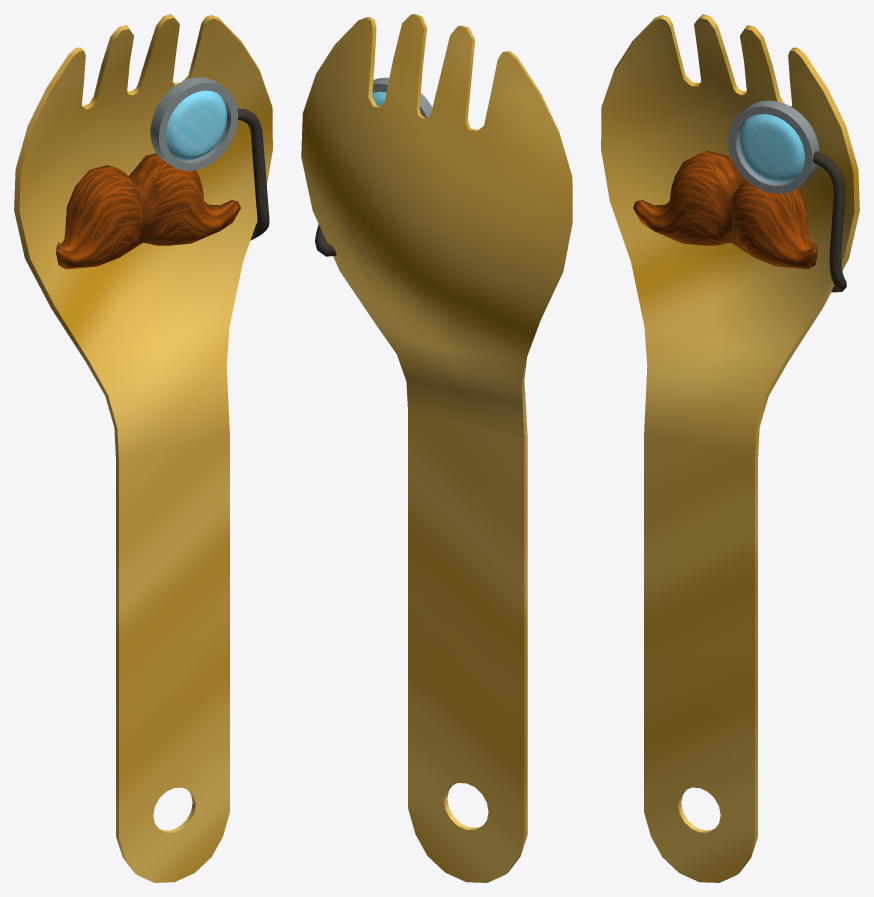
The model's file is sporkMoustache.glb.
3 renders of one model, left to right at view 1: azimuth 30°, elevation 25°; view 2: azimuth 150°, elevation 25°; view 3: azimuth 330°, elevation 25°, orthographic. The views are drawn at different scales.
Parts seen in each view (by area): view 1: sporkMoustache; view 2: sporkMoustache; view 3: sporkMoustache.
Boxes of the visible parts, x1,y1,x2,y2 form: sporkMoustache: (14, 14, 272, 882); sporkMoustache: (301, 14, 572, 882); sporkMoustache: (601, 14, 859, 882).
Bounding box in the file's own units: 0.0483 × 0.15 × 0.017.
1 material, 1 textured.
